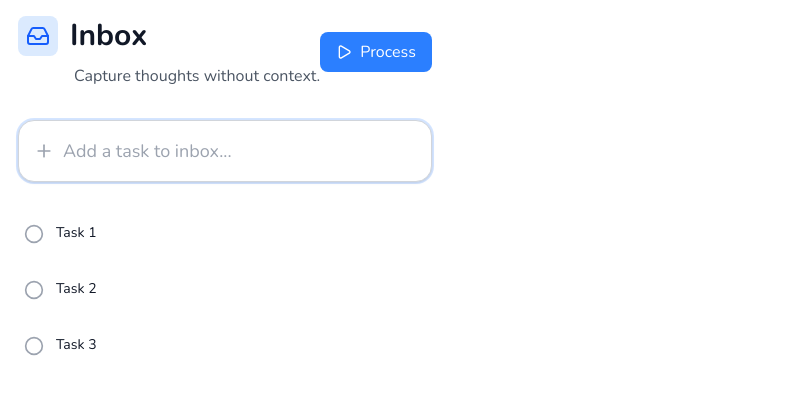
Test: InboxView Processing Mode › enters processing mode when Process button is clicked
Click the button "Process".
click(376, 52)  # box [320,32,432,72]
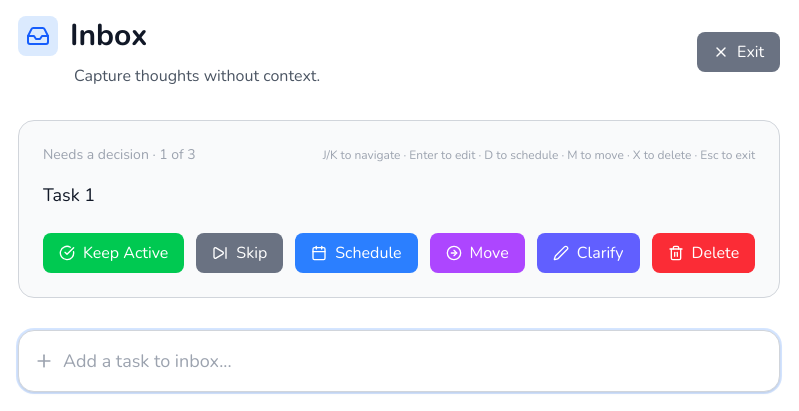
Result: the text "Needs a decision · 1 of 3" is shown at [43,145,196,165]
Result: the text "Task 1" is shown at [43,183,95,207]
